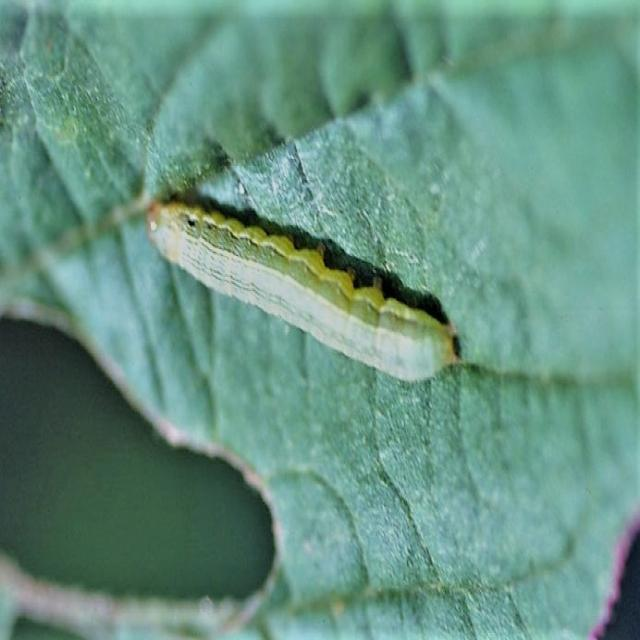armyworm: (144, 190, 462, 384)
